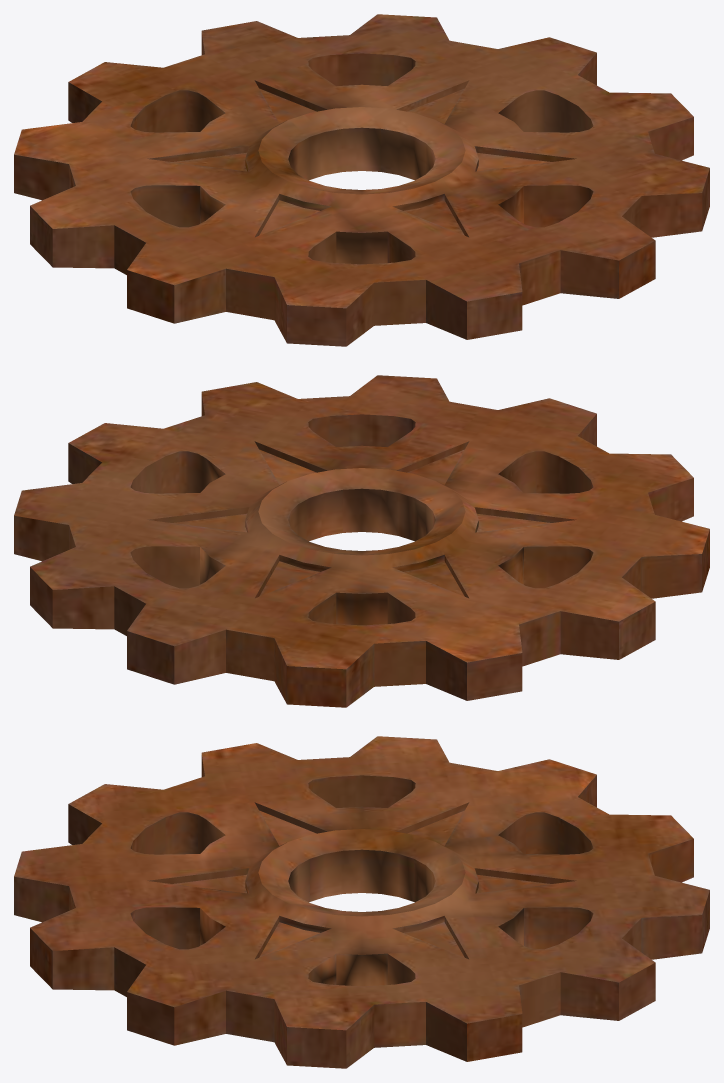
Rendered from steampunk_gear_08.glb.
3 renders of one model, top to bottom at view 1: azimuth 30°, elevation 25°; view 2: azimuth 150°, elevation 25°; view 3: azimuth 270°, elevation 25°, orthographic.
Parts seen in each view (by area): view 1: steampunk_gear_08; view 2: steampunk_gear_08; view 3: steampunk_gear_08.
Boxes of the visible parts, <box> form: steampunk_gear_08: <box>14,14,709,346</box>; steampunk_gear_08: <box>14,375,709,707</box>; steampunk_gear_08: <box>14,736,709,1068</box>.
Size of what is drawn, in the model's own units: 0.1465 by 0.0138 by 0.1465.
1 material, 1 textured.
